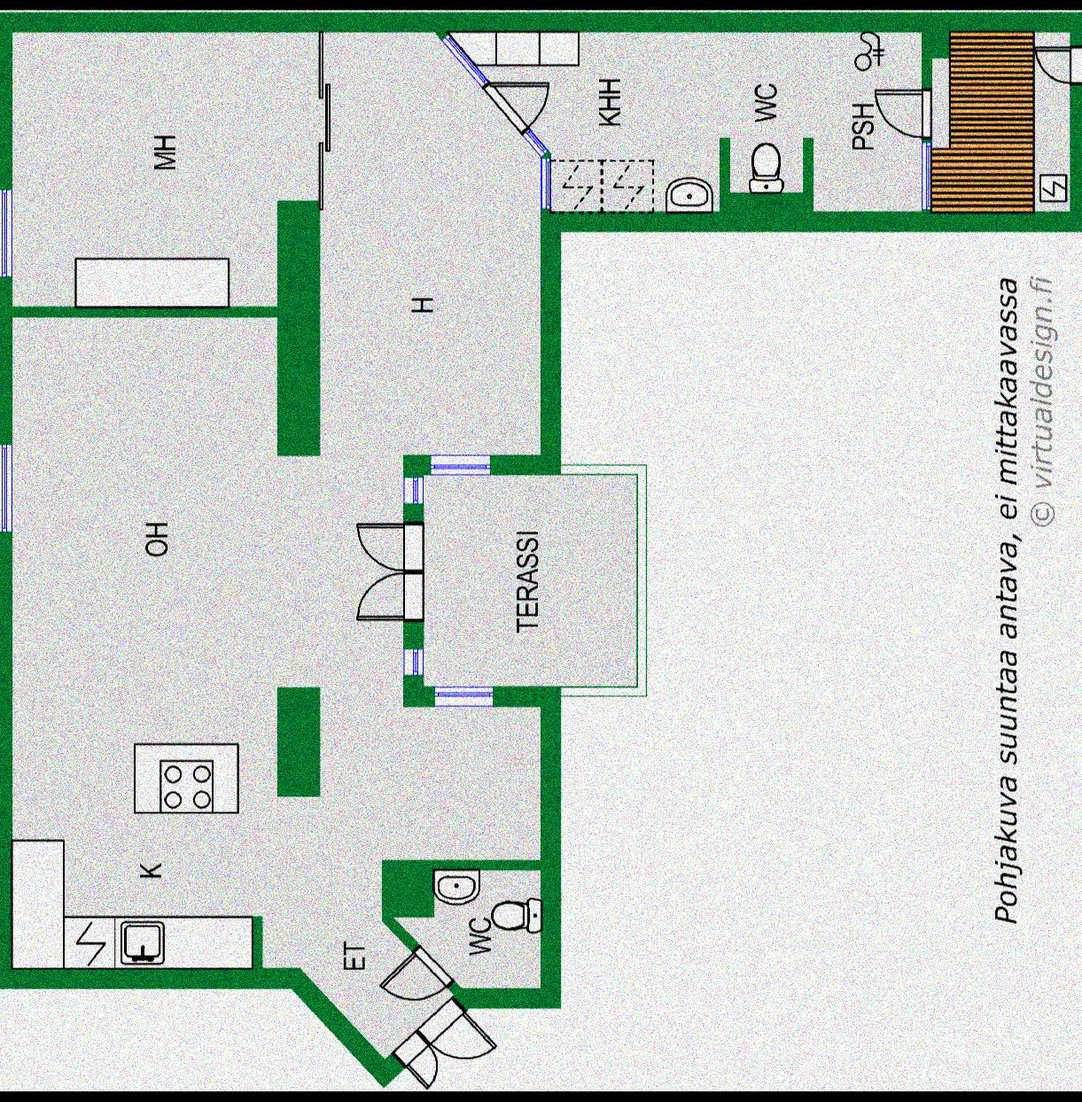door: (347, 515, 433, 631), (374, 944, 454, 1004), (868, 86, 942, 148), (477, 78, 560, 131), (415, 1009, 490, 1061), (385, 1036, 445, 1085), (1031, 35, 1082, 84)
window: (914, 136, 942, 210), (434, 682, 498, 709), (447, 34, 485, 77), (527, 125, 554, 164), (430, 458, 494, 473), (0, 447, 11, 532), (537, 156, 554, 207), (402, 645, 426, 678), (0, 192, 7, 279), (402, 480, 421, 503)
zone: (0, 28, 567, 1070), (421, 473, 635, 683), (389, 862, 538, 1009)
